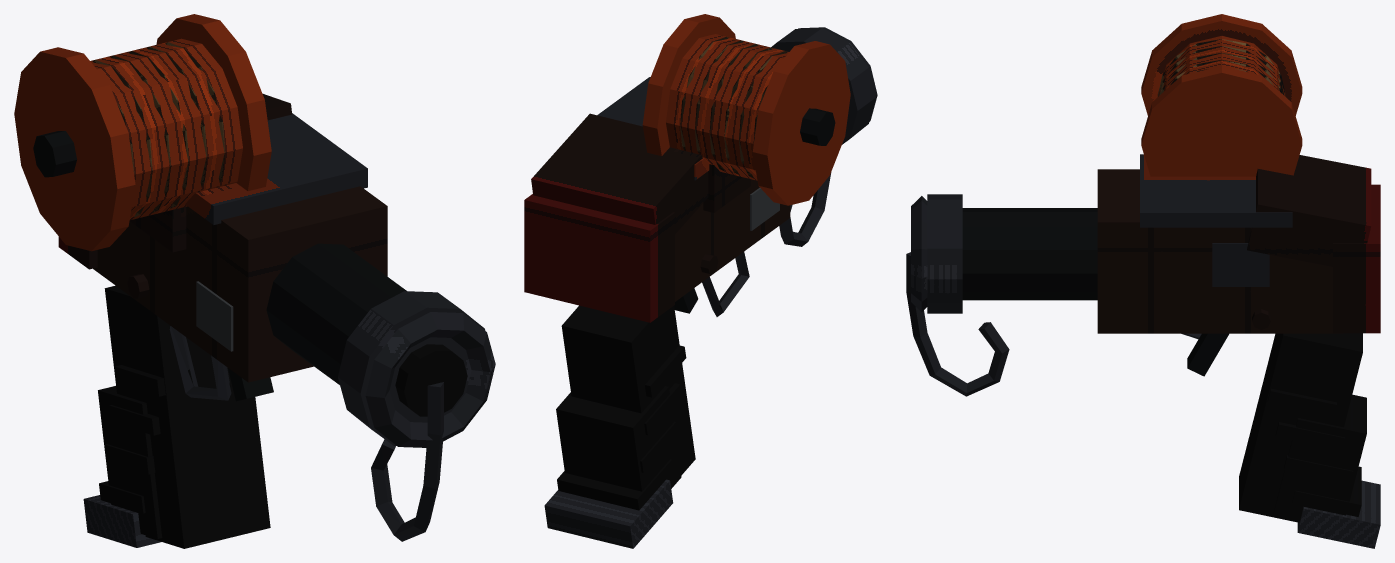
File: yoink_winch.glb
3 views of the same model, side by side, from view 1: azimuth 30°, elevation 25°; view 2: azimuth 150°, elevation 25°; view 3: azimuth 270°, elevation 25° (orthographic). The views are drawn at different scales.
Visible parts, largest first — view 1: YoinkWinch, Hook; view 2: YoinkWinch, Hook; view 3: YoinkWinch, Hook.
Part boxes in pixels (left/top/right/bottom): YoinkWinch: left=14, top=14, right=495, bottom=548; Hook: left=371, top=382, right=443, bottom=541; YoinkWinch: left=524, top=14, right=877, bottom=548; Hook: left=779, top=172, right=831, bottom=246; YoinkWinch: left=911, top=14, right=1380, bottom=548; Hook: left=906, top=252, right=1009, bottom=396.
Bounding box in the file's own units: 0.1805 × 0.3633 × 0.3479.
Materials: 1 (1 with a texture image).
